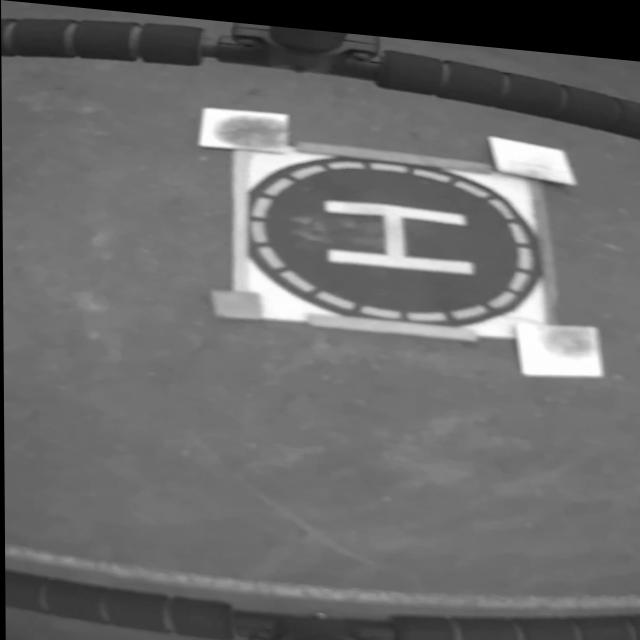Helipad: (322, 192, 472, 266)
